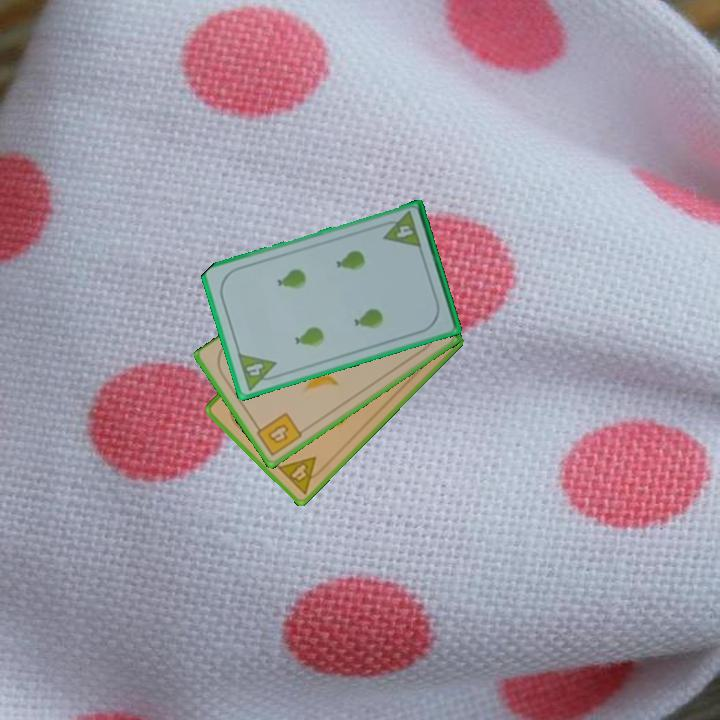4b: (251, 409, 305, 459)
4p: (274, 453, 328, 497), (234, 350, 283, 393), (377, 208, 424, 251)
